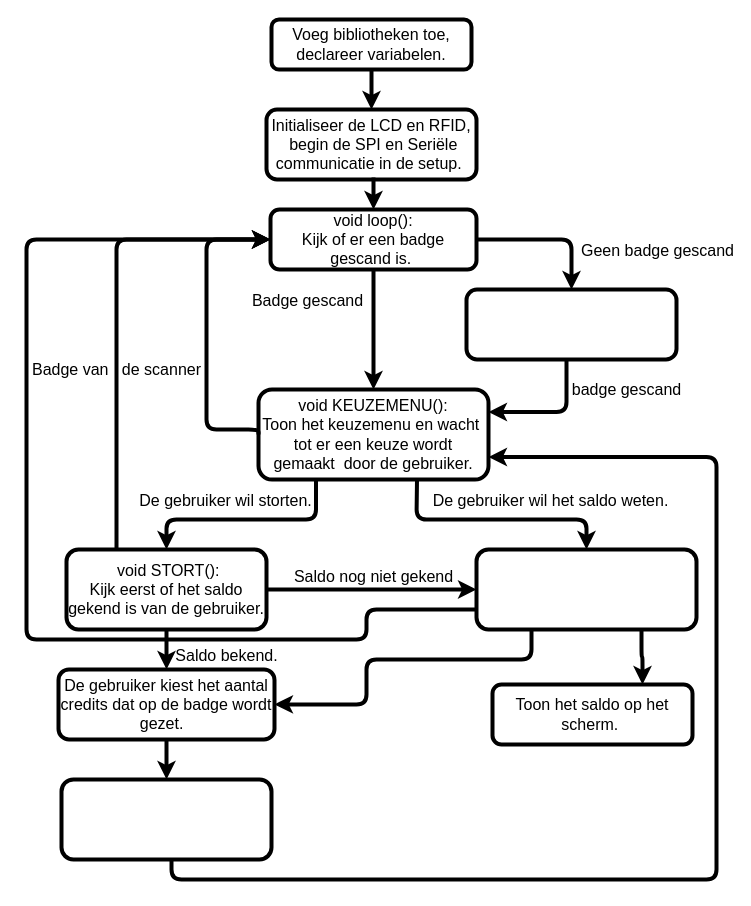
Image size: 751x906. Some labels were removed from this diagram. Each missing label, with the centre of its shape:
Bereken het nieuwe saldo en schrijf het naar de RFID badge.: the point at 166,819
void RFIDSCAN(): Blijf controleren of er een badge op de scanner ligt.: the point at 571,324
void SALDO(): Lees het saldo van de gebruiker in die op de badge staat.: the point at 586,589
